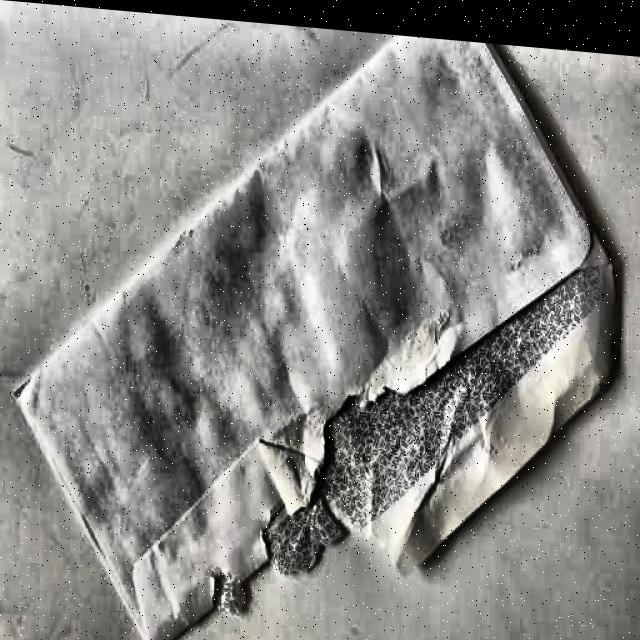paper: (18, 2, 620, 640)
